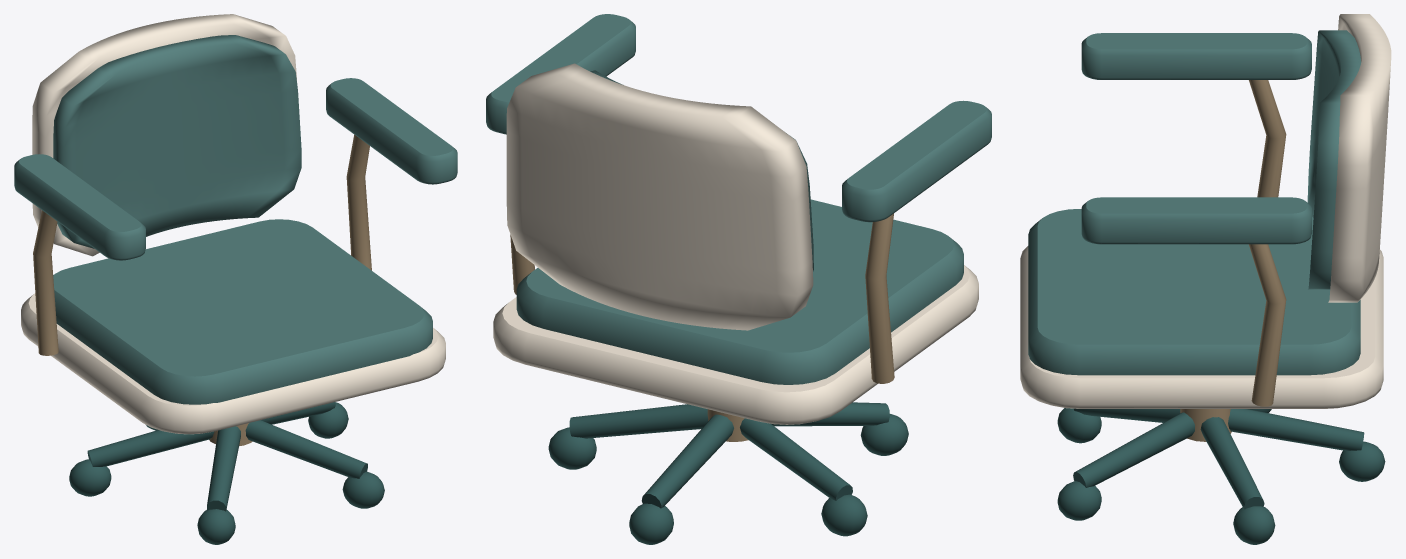
The model's file is doctor-chair.glb.
3 views of the same model, side by side, from view 1: azimuth 30°, elevation 25°; view 2: azimuth 150°, elevation 25°; view 3: azimuth 270°, elevation 25° (orthographic). The views are drawn at different scales.
Visible parts, largest first — view 1: doctor-chair; view 2: doctor-chair; view 3: doctor-chair.
Boxes of the visible parts, x1,y1,x2,y2 form: doctor-chair: (14, 14, 457, 544); doctor-chair: (486, 14, 991, 544); doctor-chair: (1020, 14, 1391, 544).
Size of the model in its own units: 0.565 by 0.607 by 0.48.
